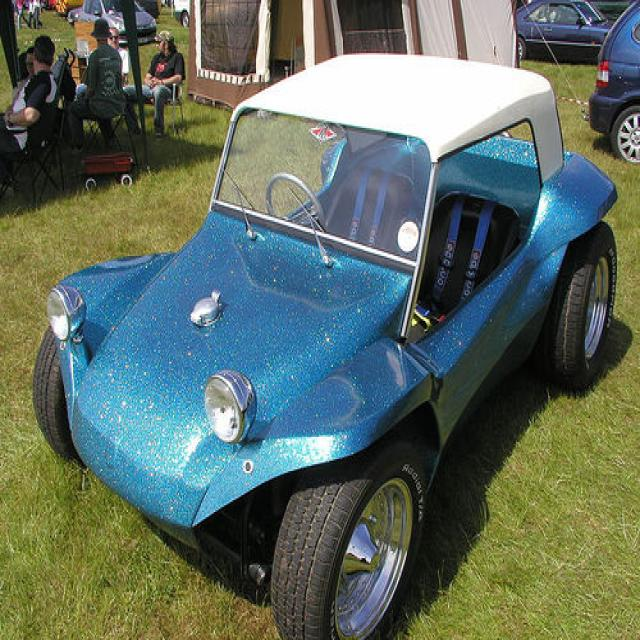light_vehicle: (31, 48, 622, 636), (580, 3, 639, 165), (513, 2, 617, 63), (79, 0, 159, 46)
